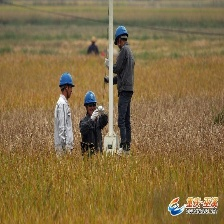helmet: (113, 25, 130, 44), (57, 72, 76, 88), (83, 91, 98, 105)
no-vest: (115, 45, 136, 91), (57, 95, 72, 145)
person: (113, 26, 136, 159), (55, 71, 77, 161), (81, 91, 108, 155)
